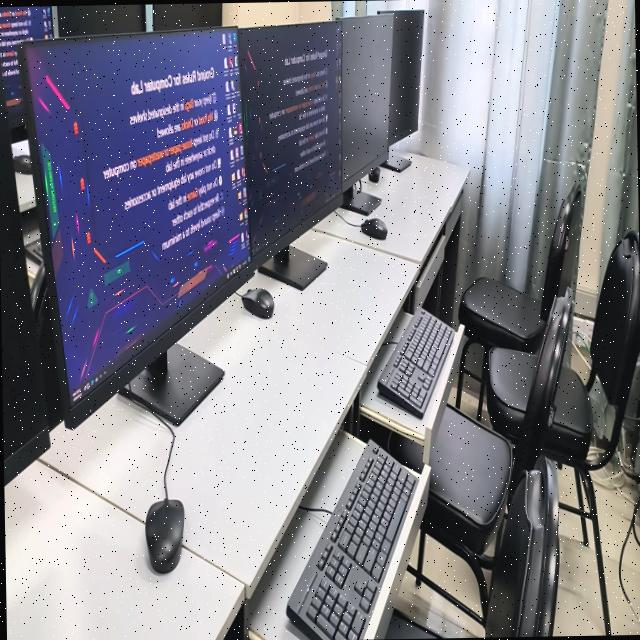Chair: (406, 292, 569, 629), (542, 230, 640, 635), (456, 184, 579, 406), (484, 454, 558, 637), (376, 309, 452, 414), (485, 346, 540, 443), (385, 609, 447, 639)
Keyboard: (287, 440, 418, 640), (376, 308, 452, 414)
Monitor: (18, 28, 250, 410), (237, 20, 341, 264), (0, 72, 59, 484), (341, 14, 392, 189), (377, 8, 422, 143), (0, 5, 52, 116), (56, 3, 144, 35), (153, 2, 221, 28)
Mouse: (144, 415, 183, 572), (240, 286, 273, 317), (360, 217, 386, 238)
